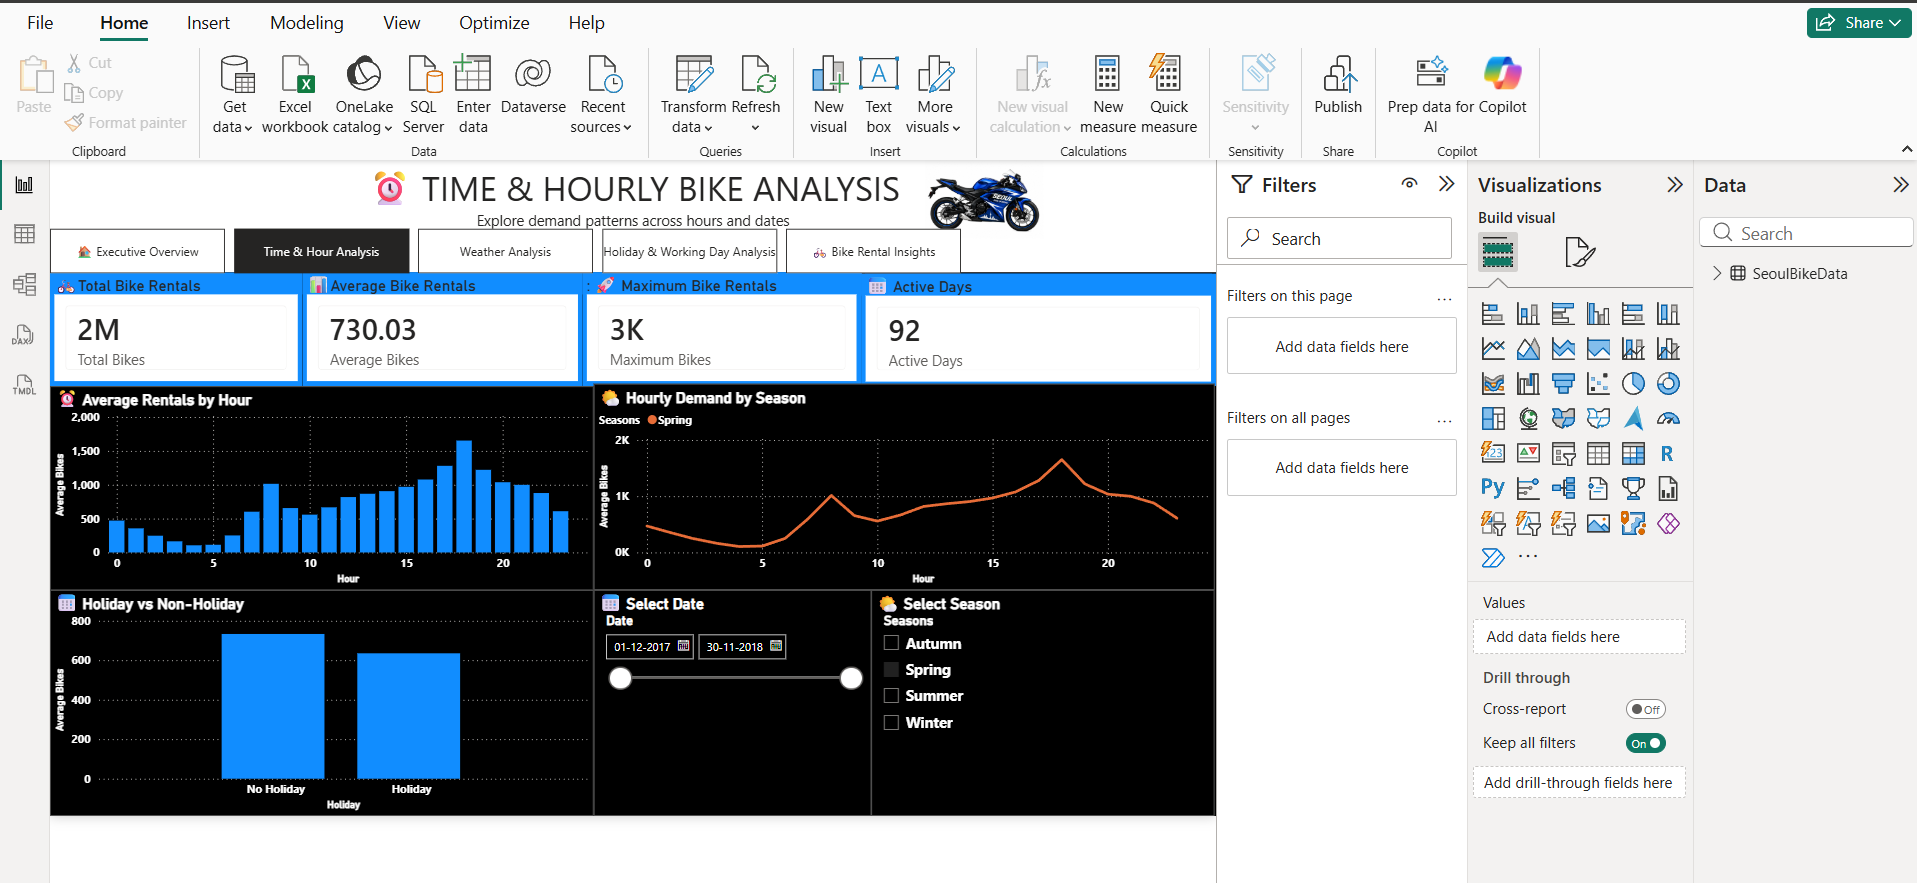

What the dashboard file says about the page in this screenshot:
{"tool":"powerbi","page":{"name":"Time & Hour Analysis","canvas":[1280,720],"ordinal":1},"visuals":[{"type":"textbox","box":[0,0,1280.3,123.5],"z":0},{"type":"image","box":[901.5,0,248.4,86.4],"z":1000},{"type":"cardVisual","title":"🚲Total Bike Rentals","fields":{"Data":["SeoulBikeData.Total Bikes"]},"box":[0,123.5,277.2,124.9],"z":2000},{"type":"cardVisual","title":" 📊Average Bike Rentals","fields":{"Data":["SeoulBikeData.Average Bikes"]},"box":[277.2,123.5,307.4,124.9],"z":3000},{"type":"cardVisual","title":":  🚀 Maximum Bike Rentals","fields":{"Data":["SeoulBikeData.Maximum Bikes"]},"box":[584.6,123.5,306,124.9],"z":4000},{"type":"cardVisual","title":"📅 Active Days","fields":{"Data":["SeoulBikeData.Active Days"]},"box":[890.6,124.9,389.7,123.5],"z":5000},{"type":"clusteredColumnChart","title":"⏰ Average Rentals by Hour","fields":{"Category":["SeoulBikeData.Hour"],"Y":["SeoulBikeData.Average Bikes"]},"box":[0,248.4,596.9,223.7],"z":6000},{"type":"lineChart","title":"🌤️ Hourly Demand by Season","fields":{"Category":["SeoulBikeData.Hour"],"Y":["SeoulBikeData.Average Bikes"],"Series":["SeoulBikeData.Seasons"]},"box":[596.9,245.6,682,226.4],"z":7000},{"type":"lineClusteredColumnComboChart","title":"📅 Holiday vs Non-Holiday","fields":{"Category":["SeoulBikeData.Holiday"],"Y":["SeoulBikeData.Average Bikes"]},"box":[0,472,596.9,248.4],"z":8000},{"type":"slicer","title":"📅 Select Date","fields":{"Values":["SeoulBikeData.Date"]},"box":[596.9,472,304.6,248.4],"z":9000},{"type":"slicer","title":"🌤️ Select Season","fields":{"Values":["SeoulBikeData.Seasons"]},"box":[902,472,377,248],"z":10000},{"type":"pageNavigator","box":[0,75.5,1000.3,49.4],"z":10001}]}

Visuals, with their boxes on the page's 1280x720 design canvas (x1, y1, x2, y2). These are canvas units, not pixel positions in the 1917x883 screenshot, which may show the page scaled, cropped or inside an application window:
textbox: <bbox>0, 0, 1280, 124</bbox>
image: <bbox>902, 0, 1150, 86</bbox>
"🚲Total Bike Rentals" cardVisual: <bbox>0, 124, 277, 248</bbox>
" 📊Average Bike Rentals" cardVisual: <bbox>277, 124, 585, 248</bbox>
":  🚀 Maximum Bike Rentals" cardVisual: <bbox>585, 124, 891, 248</bbox>
"📅 Active Days" cardVisual: <bbox>891, 125, 1280, 248</bbox>
"⏰ Average Rentals by Hour" clusteredColumnChart: <bbox>0, 248, 597, 472</bbox>
"🌤️ Hourly Demand by Season" lineChart: <bbox>597, 246, 1279, 472</bbox>
"📅 Holiday vs Non-Holiday" lineClusteredColumnComboChart: <bbox>0, 472, 597, 720</bbox>
"📅 Select Date" slicer: <bbox>597, 472, 902, 720</bbox>
"🌤️ Select Season" slicer: <bbox>902, 472, 1279, 720</bbox>
pageNavigator: <bbox>0, 76, 1000, 125</bbox>
